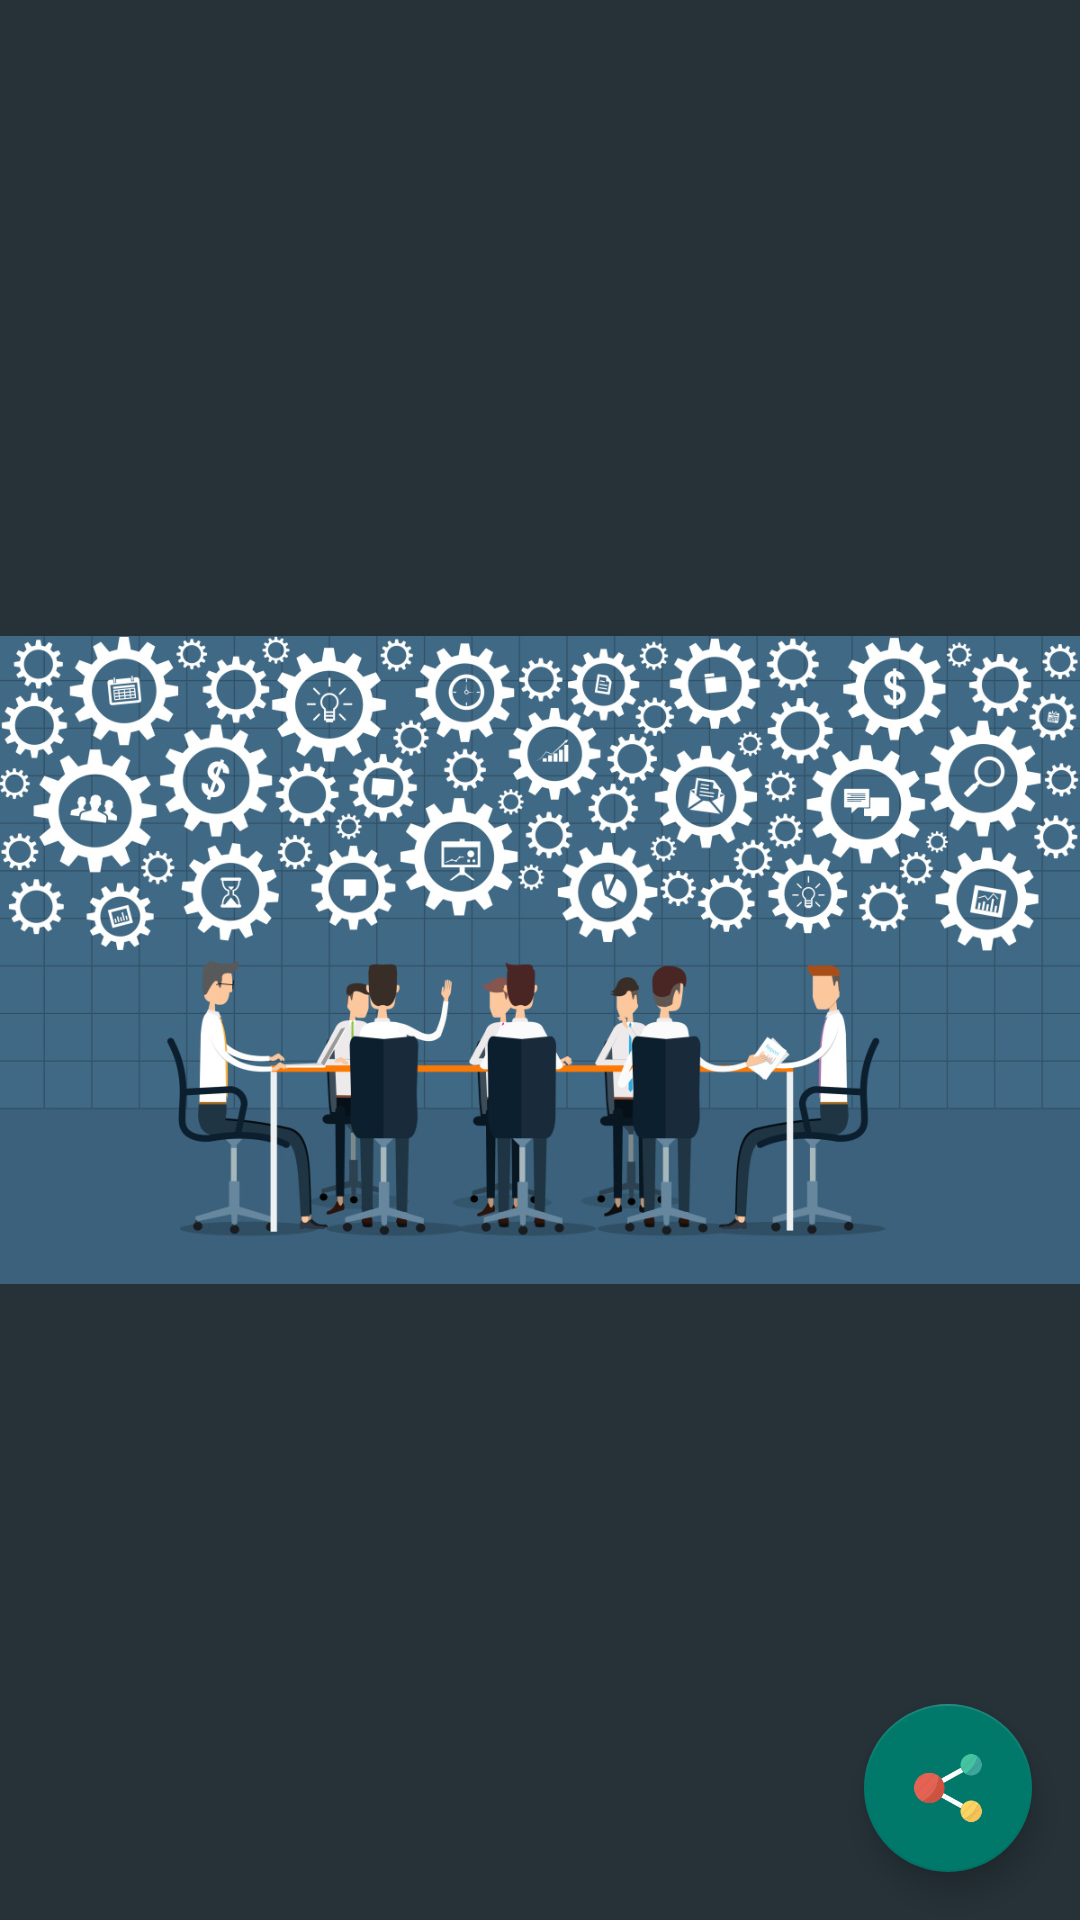

Point at icon controls on the screen. Image size 1080*1920, points as [x,y].
social: [948,1788]
